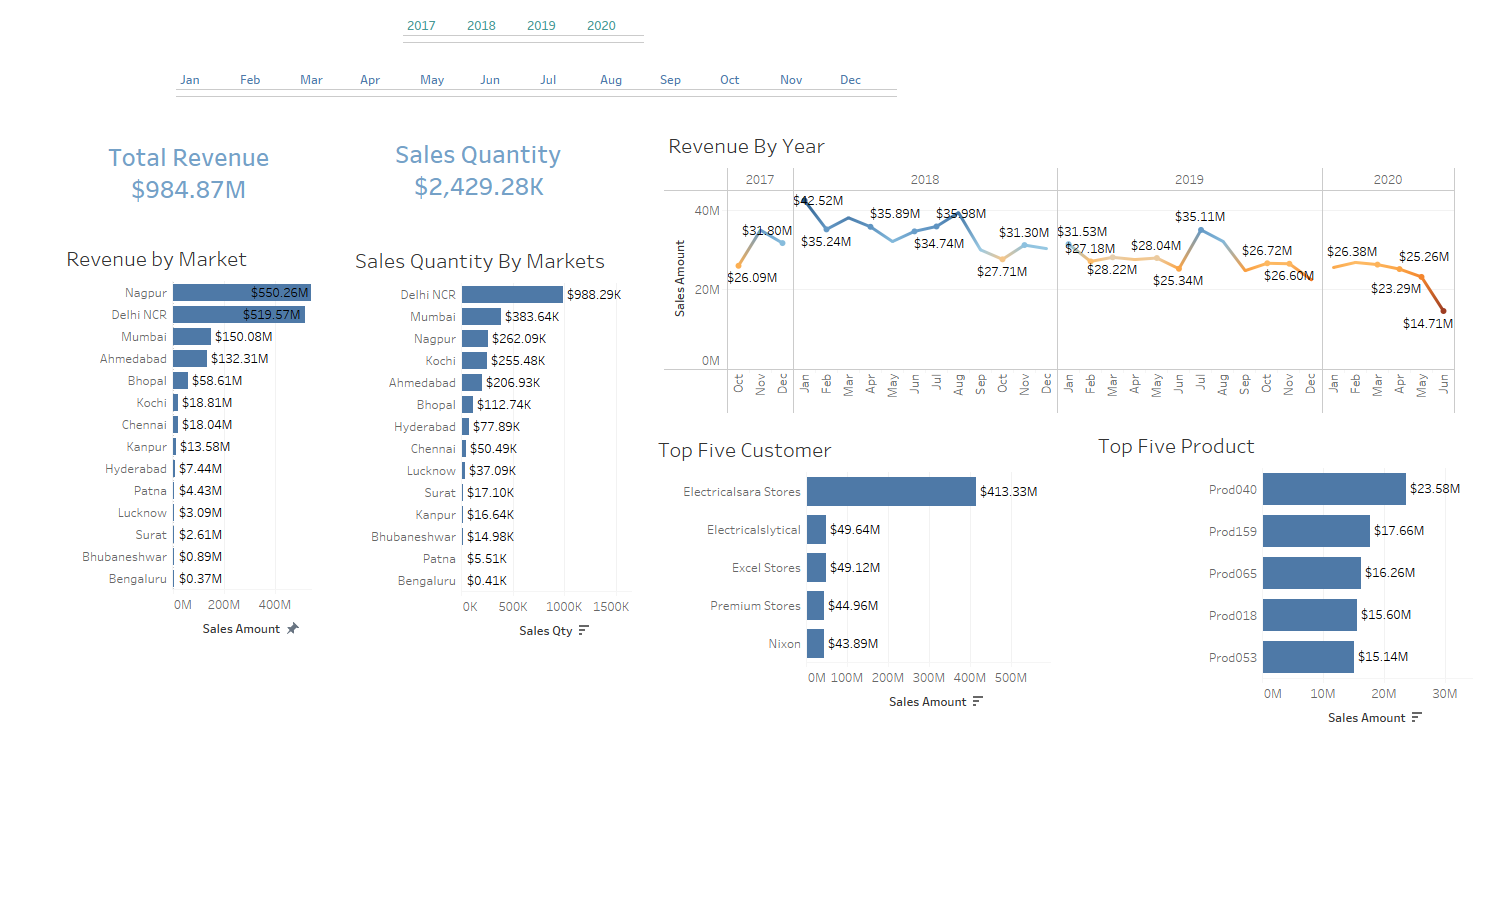

The page's visual inventory and layout, read from the dashboard file:
{"tool":"tableau","page":{"name":"Dashboard 1","canvas":[1500,900],"ordinal":0},"visuals":[{"type":"worksheet","title":"Year Filter","mark":"Automatic","cols":["cy_date"],"box":[403,15,267,40]},{"type":"worksheet","title":"Months Filter","mark":"Automatic","cols":["cy_date"],"box":[176,69,741,47]},{"type":"worksheet","title":"Revenue By Year","mark":"Automatic","rows":["Calculation_3799630758369112064"],"cols":["cy_date","cy_date"],"box":[664,125,791,289]},{"type":"worksheet","title":"Sales Quantity","mark":"Automatic","box":[389,137,190,73]},{"type":"worksheet","title":"Total Revenue","mark":"Automatic","box":[99,140,183,71]},{"type":"worksheet","title":"Revenue by Market","mark":"Automatic","rows":["markets_name"],"cols":["Calculation_3799630758369112064"],"box":[62,238,249,416]},{"type":"worksheet","title":"Sales Quantity by Market","mark":"Automatic","rows":["markets_name"],"cols":["sales_qty"],"box":[351,240,280,493]},{"type":"worksheet","title":"Top Five Product","mark":"Automatic","rows":["product_code (products)"],"cols":["Calculation_3799630758369112064"],"box":[1094,425,379,318]},{"type":"worksheet","title":"Top Five Customer","mark":"Automatic","rows":["custmer_name"],"cols":["Calculation_3799630758369112064"],"box":[654,429,396,288]}]}

Visuals, with their boxes in screenshot pixels (x1, y1, x2, y2), scaled from the page's 1500x900 canvas onto the 1500x900 screenshot:
"Year Filter" worksheet: Rect(403, 15, 670, 55)
"Months Filter" worksheet: Rect(176, 69, 917, 116)
"Revenue By Year" worksheet: Rect(664, 125, 1455, 414)
"Sales Quantity" worksheet: Rect(389, 137, 579, 210)
"Total Revenue" worksheet: Rect(99, 140, 282, 211)
"Revenue by Market" worksheet: Rect(62, 238, 311, 654)
"Sales Quantity by Market" worksheet: Rect(351, 240, 631, 733)
"Top Five Product" worksheet: Rect(1094, 425, 1473, 743)
"Top Five Customer" worksheet: Rect(654, 429, 1050, 717)
